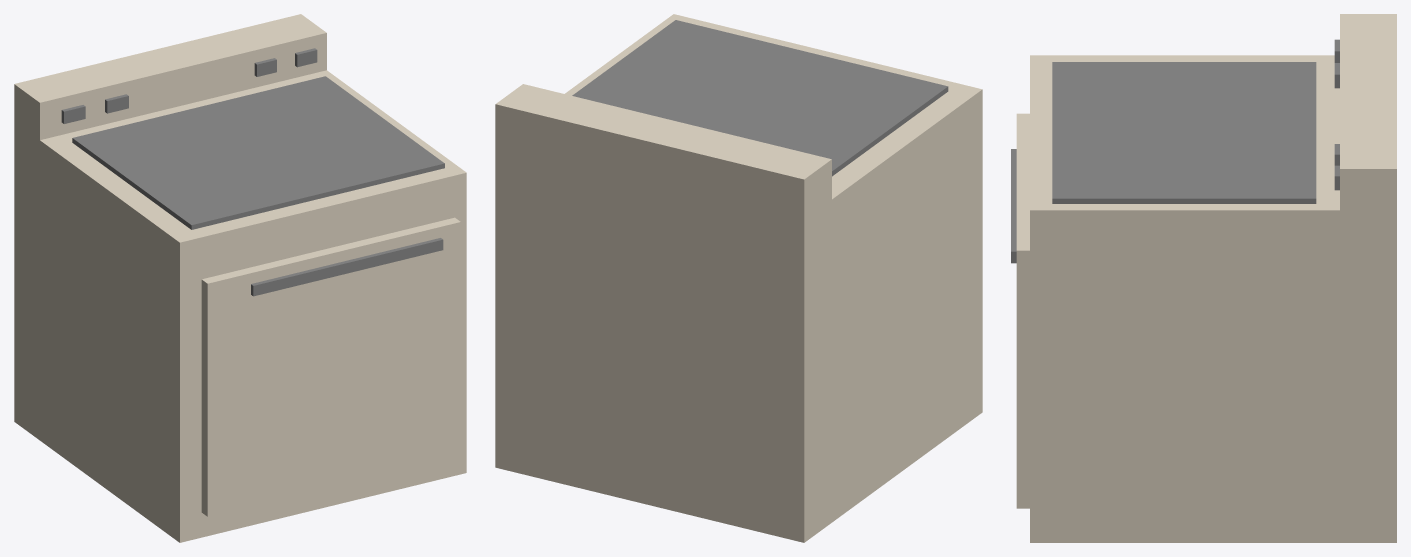
File: stove 1.fbx
3 views of the same model, side by side, from view 1: azimuth 30°, elevation 25°; view 2: azimuth 150°, elevation 25°; view 3: azimuth 270°, elevation 25° (orthographic). The views are drawn at different scales.
Visible parts, largest first — view 1: Cube; view 2: Cube; view 3: Cube.
Part boxes in pixels (left/top/right/bottom): Cube: left=14, top=14, right=466, bottom=542; Cube: left=495, top=14, right=982, bottom=542; Cube: left=1011, top=14, right=1396, bottom=542.
Bounding box in the file's own units: 200 × 225 × 210.
